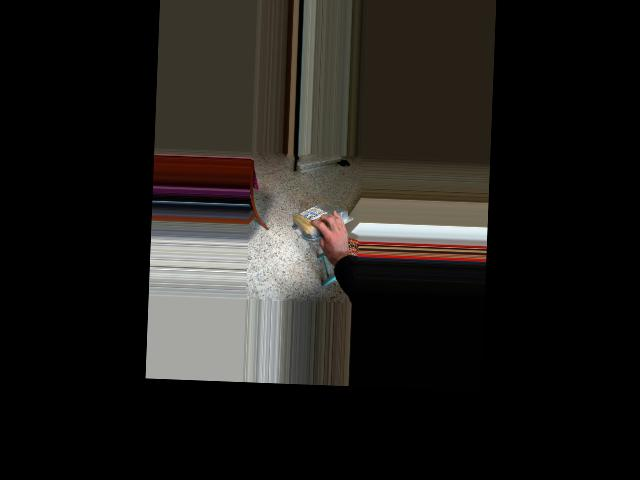cheese: (291, 204, 353, 236)
